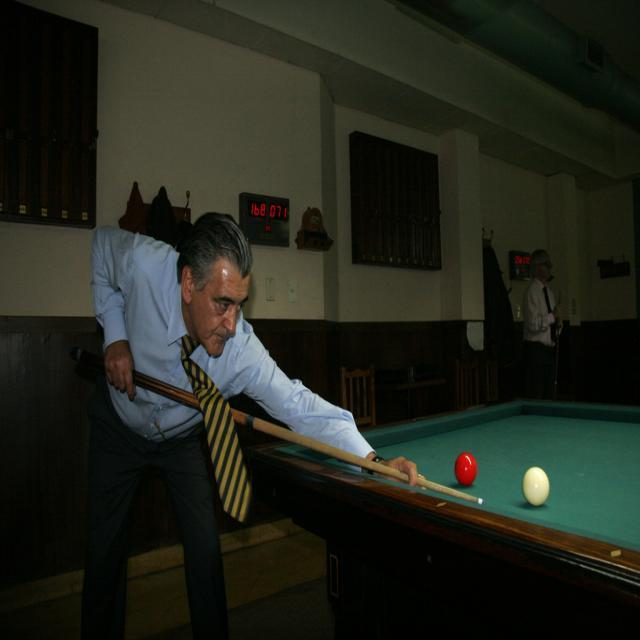Ball: (524, 466, 549, 507), (455, 452, 477, 488)
Billiard table: (256, 397, 640, 639)
